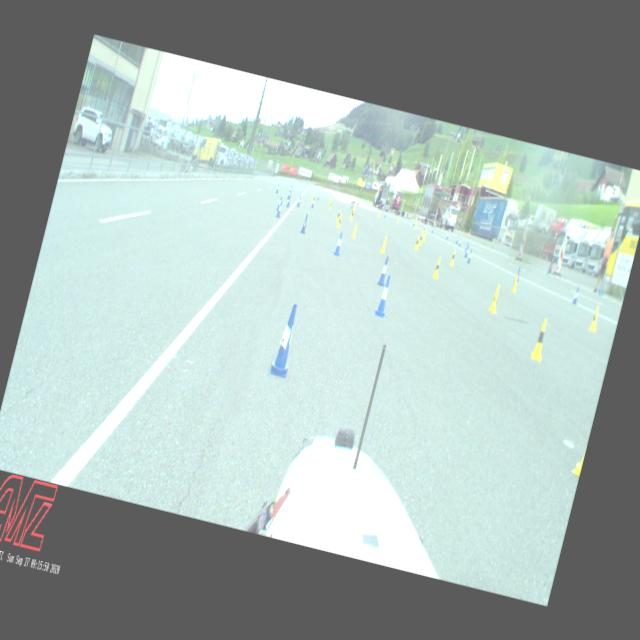blue_cone: (268, 303, 302, 377), (374, 274, 394, 316), (377, 255, 391, 286), (333, 231, 344, 255), (300, 214, 309, 234), (572, 286, 580, 304), (275, 202, 283, 218), (515, 266, 522, 282), (598, 280, 605, 296), (467, 249, 472, 263), (276, 196, 281, 210), (286, 196, 292, 207), (464, 245, 469, 258), (546, 262, 551, 274), (296, 196, 301, 207), (464, 240, 468, 252), (310, 198, 314, 208), (458, 237, 462, 246), (286, 189, 290, 198), (275, 184, 279, 193), (455, 235, 459, 244), (412, 218, 416, 226), (316, 193, 320, 200), (430, 226, 434, 233), (446, 231, 449, 239), (289, 186, 292, 193), (384, 209, 386, 217)
yellow_cone: (530, 318, 550, 360), (571, 440, 587, 476), (488, 284, 502, 314), (588, 306, 601, 331), (432, 255, 442, 278), (510, 272, 520, 292), (379, 235, 388, 252), (448, 248, 456, 266), (351, 222, 358, 238), (336, 215, 343, 228), (414, 236, 419, 249), (418, 232, 422, 245), (336, 210, 340, 222), (311, 194, 316, 203), (422, 227, 427, 236), (422, 230, 426, 241), (350, 210, 354, 220), (413, 221, 418, 229), (328, 200, 332, 209), (310, 192, 314, 200), (422, 226, 426, 234), (350, 207, 353, 216), (328, 197, 331, 205), (352, 204, 356, 210), (377, 210, 380, 217), (396, 216, 398, 223)
